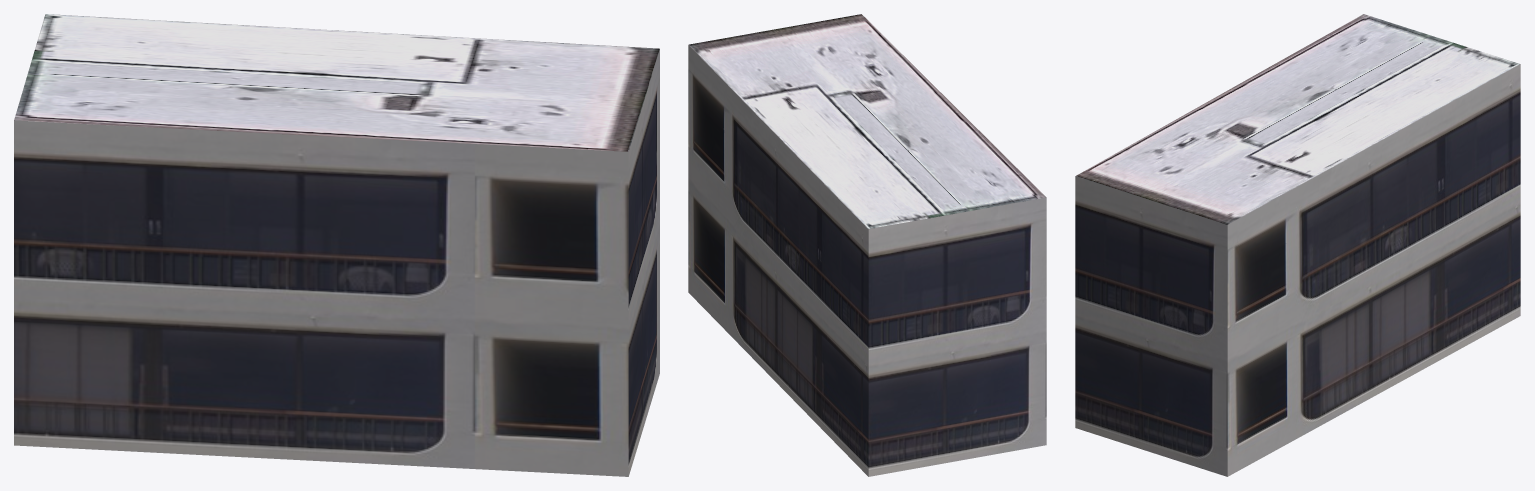
Rendered from RelTex__5.fbx.
3 views of the same model, side by side, from view 1: azimuth 30°, elevation 25°; view 2: azimuth 150°, elevation 25°; view 3: azimuth 270°, elevation 25° (orthographic). The views are drawn at different scales.
Visible parts, largest first — view 1: CityEngineMaterial_7_m, CityEngineMaterial_10_m; view 2: CityEngineMaterial_7_m, CityEngineMaterial_10_m; view 3: CityEngineMaterial_7_m, CityEngineMaterial_10_m.
Part boxes in pixels (x1,y1,x2,y2): CityEngineMaterial_7_m: [14, 49, 659, 476]; CityEngineMaterial_10_m: [14, 14, 659, 151]; CityEngineMaterial_7_m: [688, 45, 1046, 476]; CityEngineMaterial_10_m: [688, 14, 1046, 229]; CityEngineMaterial_7_m: [1075, 64, 1520, 476]; CityEngineMaterial_10_m: [1076, 14, 1519, 224].
Bounding box in the file's own units: 16.17 × 9 × 14.41.
Materials: 2 (2 with a texture image).
